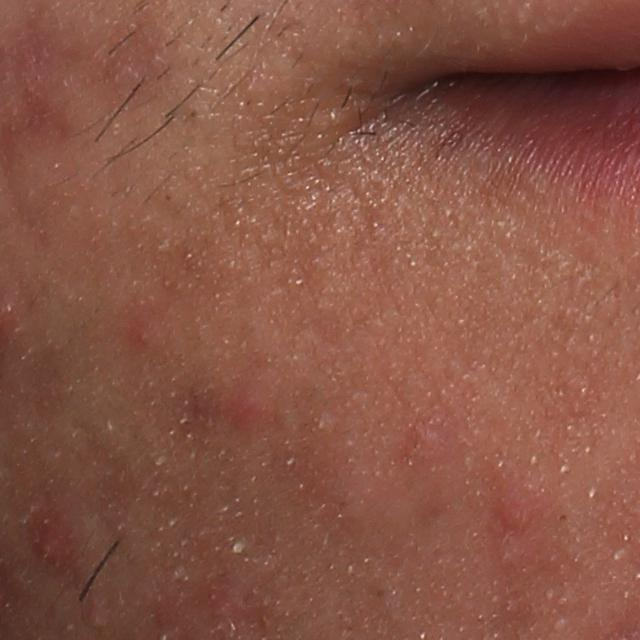papule: (27, 513, 71, 577), (397, 412, 457, 457), (229, 381, 276, 427), (494, 495, 536, 532)
